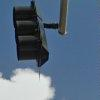Traffic light: (6, 2, 55, 70)
